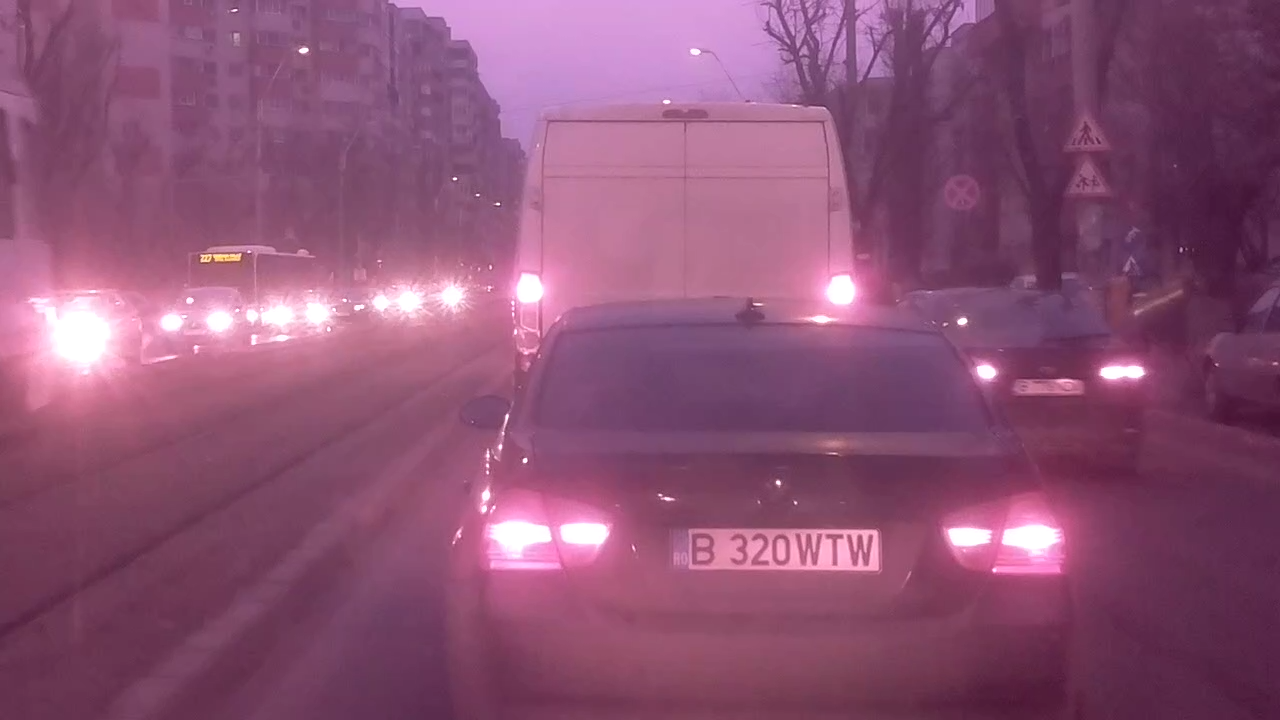license-plate: (663, 520, 887, 577)
